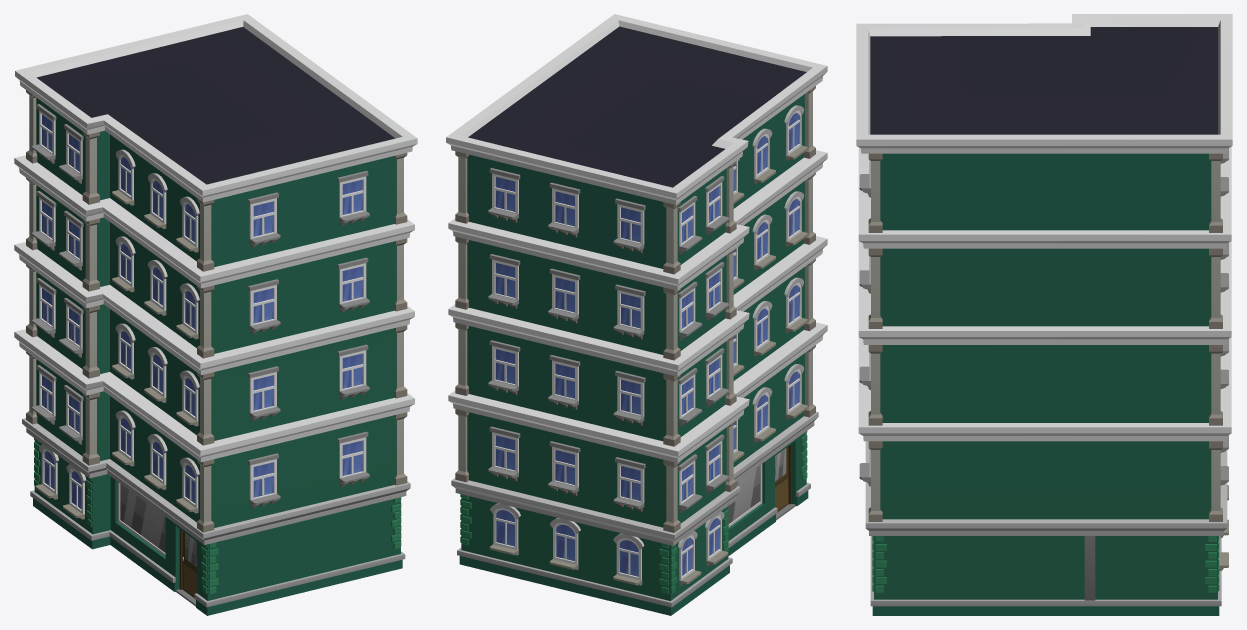
Rendered from Building_1_5_E.glb.
3 renders of one model, left to right at view 1: azimuth 30°, elevation 25°; view 2: azimuth 150°, elevation 25°; view 3: azimuth 270°, elevation 25°, orthographic. The views are drawn at different scales.
Parts seen in each view (by area): view 1: Building_1_5_E; view 2: Building_1_5_E; view 3: Building_1_5_E.
Part boxes in pixels (bbox=[...]): Building_1_5_E: bbox=[14, 14, 417, 615]; Building_1_5_E: bbox=[446, 14, 827, 615]; Building_1_5_E: bbox=[856, 14, 1232, 615].
Bounding box in the file's own units: 8.47 × 15.01 × 10.67.
3 materials, 3 textured.
